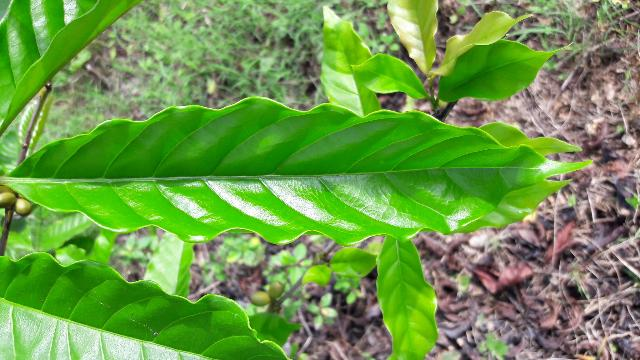healthy: (13, 97, 589, 245)
